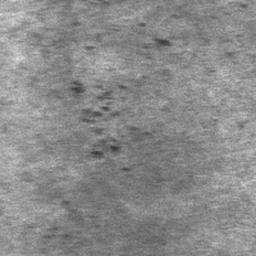Rolled in scale: (52, 68, 166, 182), (193, 4, 256, 80), (138, 15, 179, 93), (27, 201, 95, 245), (33, 22, 95, 56), (0, 101, 13, 133), (81, 0, 110, 6)
